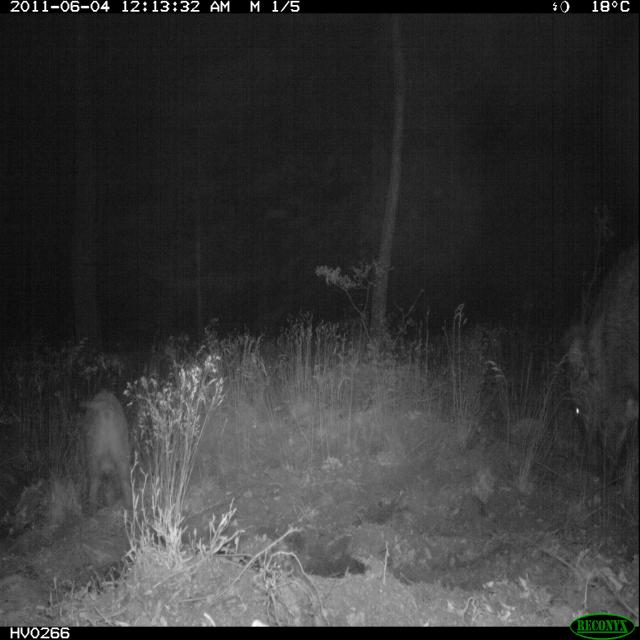boar: (532, 213, 640, 540), (50, 366, 147, 536)
